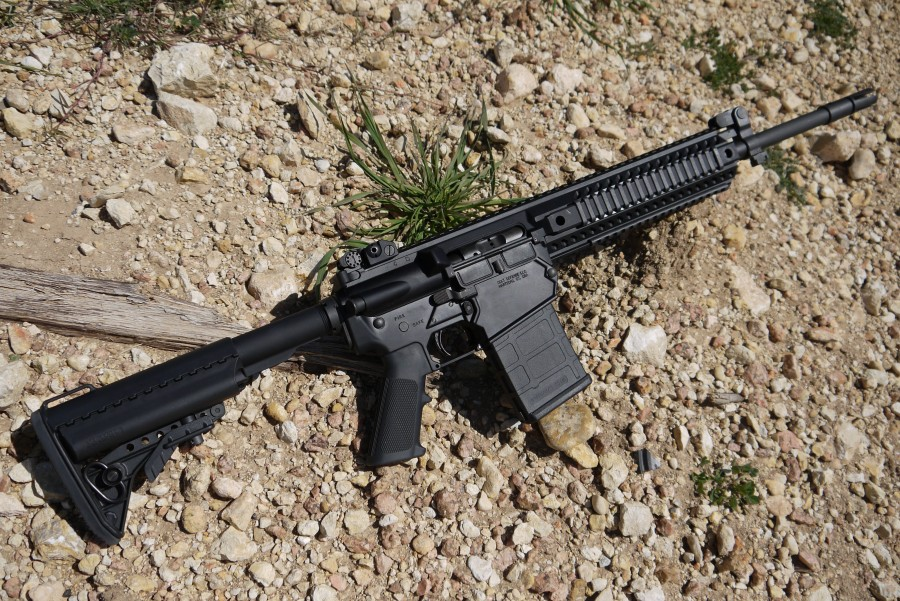Rifle: (36, 85, 887, 550)
